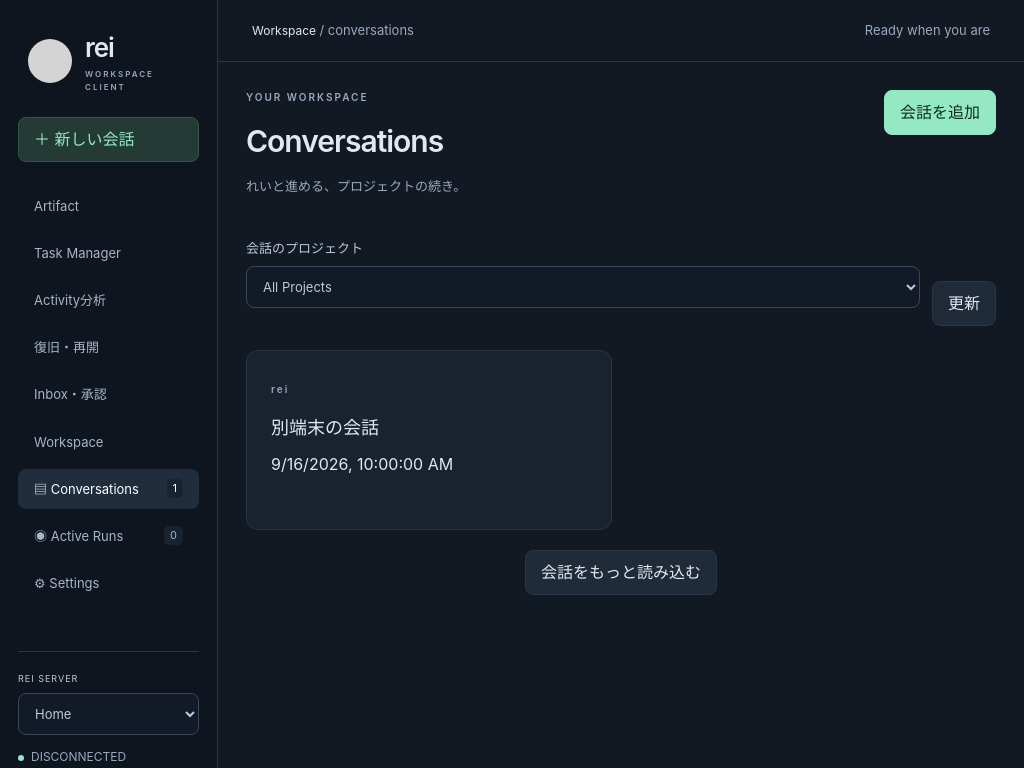
open 404 offers recovery without creating or submitting a session
Click the button "rei 別端末の会話 9/16/2026, 10:00:00 AM": [325, 428] box x1=247 y1=351 x2=611 y2=529
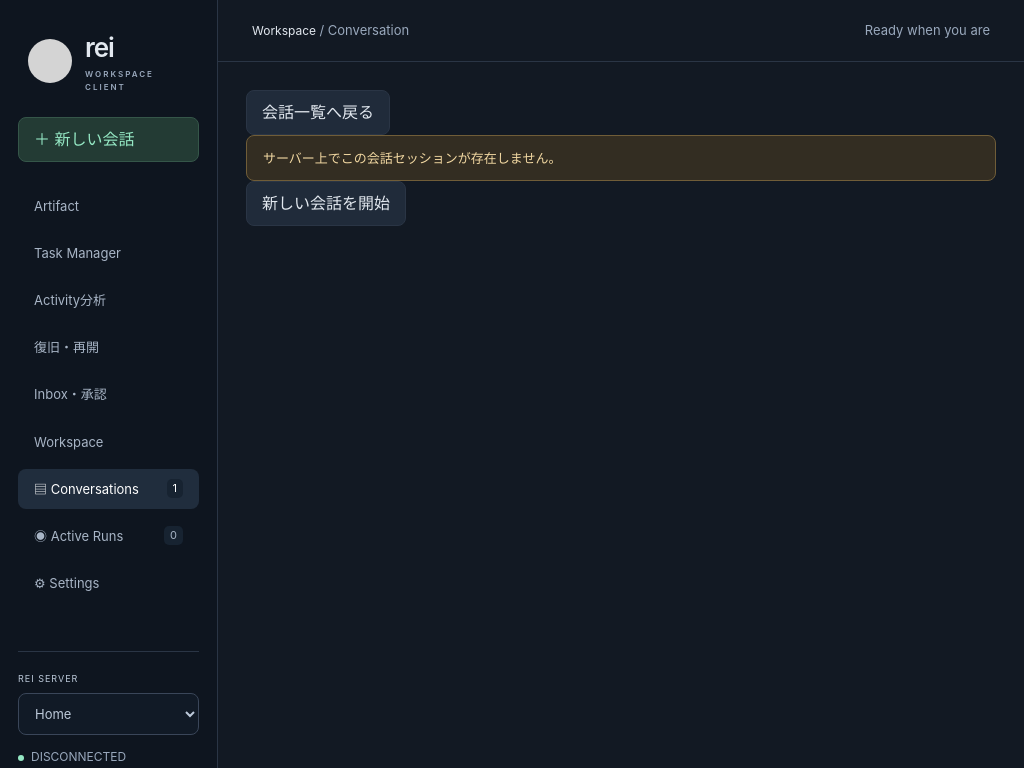
Check: the text "サーバー上でこの会話セッションが存在しません。" is shown, box x1=246 y1=135 x2=996 y2=181
Check: the button "会話一覧へ戻る" is shown, box x1=246 y1=90 x2=390 y2=135
